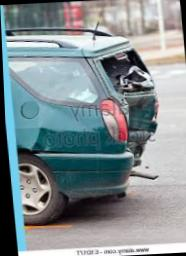Dickey: (94, 49, 153, 150)
Fender: (16, 93, 125, 157)
